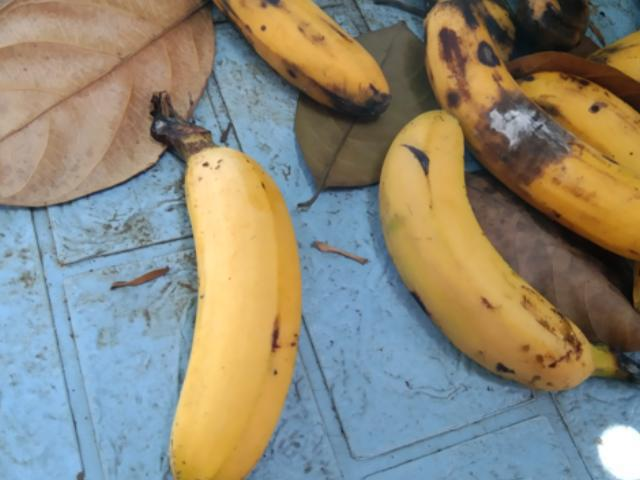freshripe: (143, 157, 344, 479)
ripe: (381, 113, 631, 446), (201, 0, 413, 145)
rotten: (428, 3, 639, 267)
